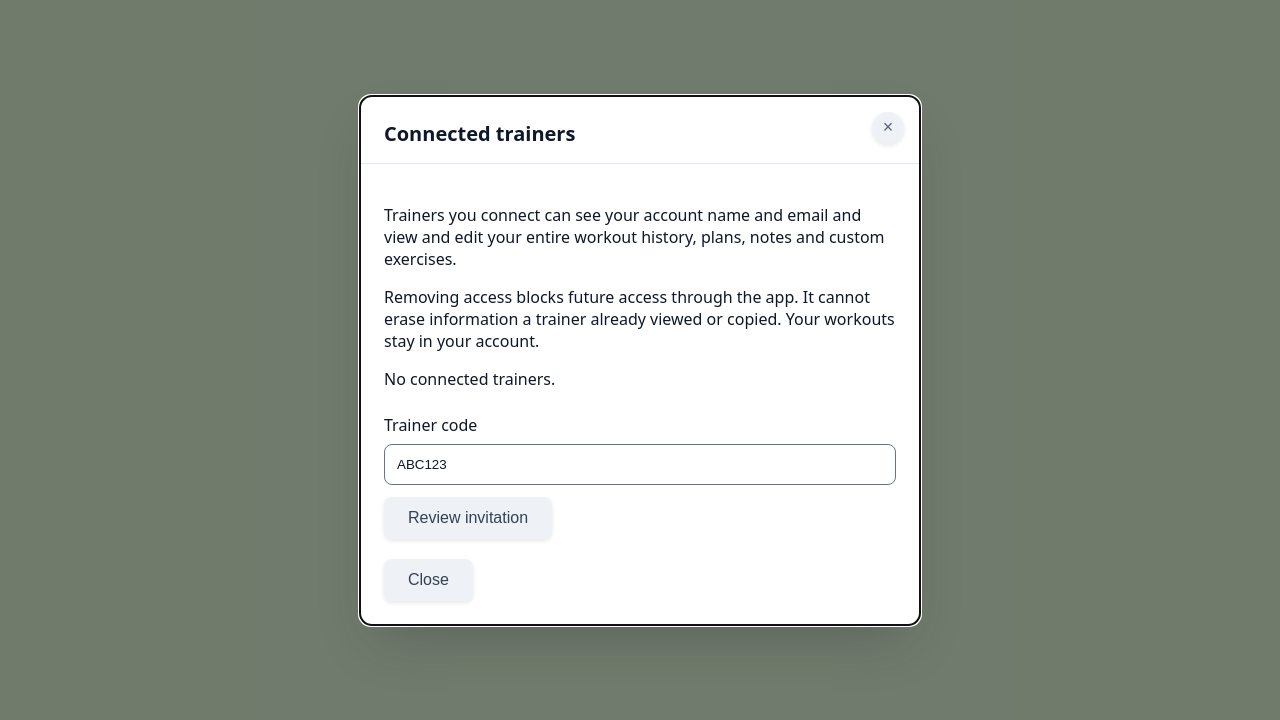
trainer access consent › an invitation only pre-fills the code; reading the identity still grants no access
Expected: the text "No connected trainers." is shown, [384,368,555,390]
Click the button "Review invitation": click(468, 518) [384,496,552,538]
(page scrolled)
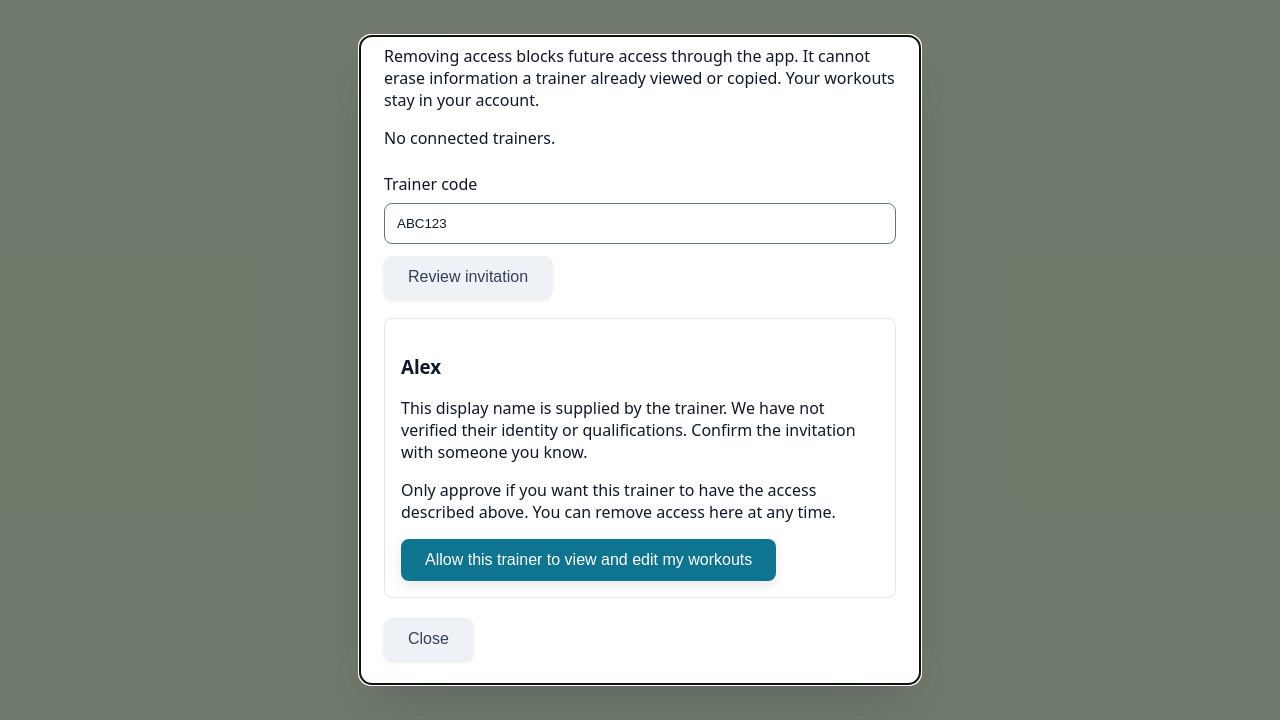
Now the heading "Alex" is shown, box [401,354,441,379]
Click the button "Allow this trainer to view and edit my workouts": click(589, 560) [401,539,776,581]
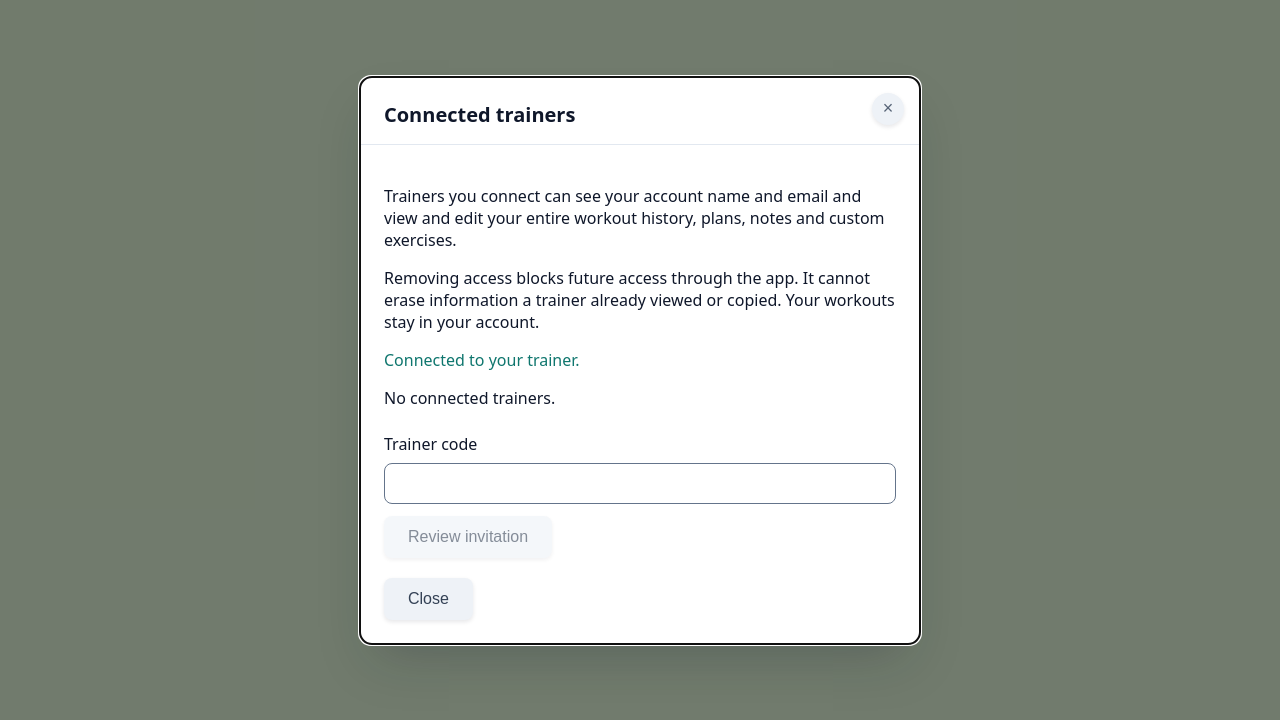
Now the text "Connected to your trainer." is shown, box [384,348,580,370]
